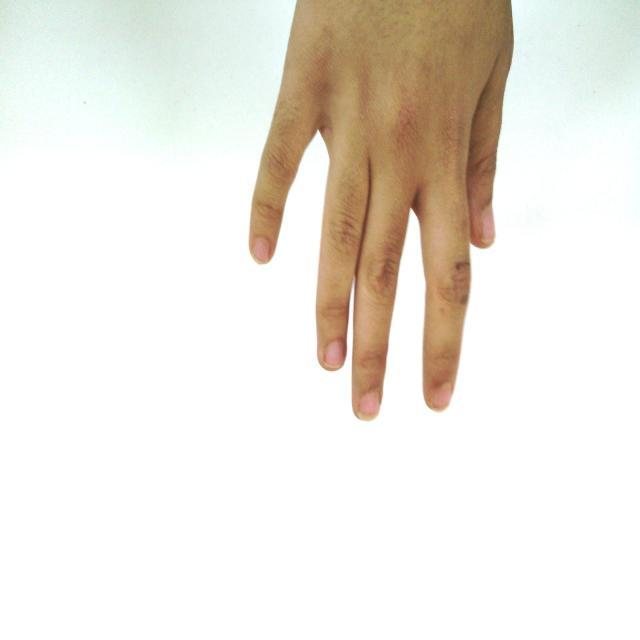Fingernail: (432, 383, 452, 413), (359, 393, 380, 421), (482, 203, 496, 244), (325, 341, 344, 369), (251, 238, 270, 265)
